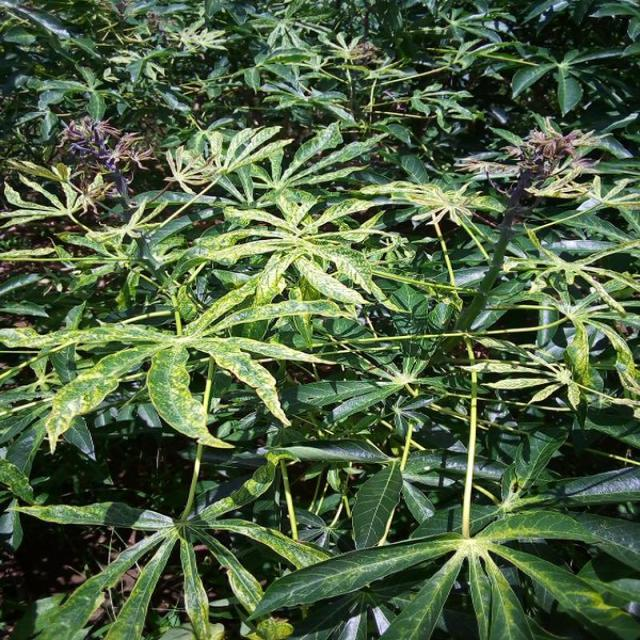cassava leaf: (0, 1, 638, 637), (145, 341, 235, 450)
